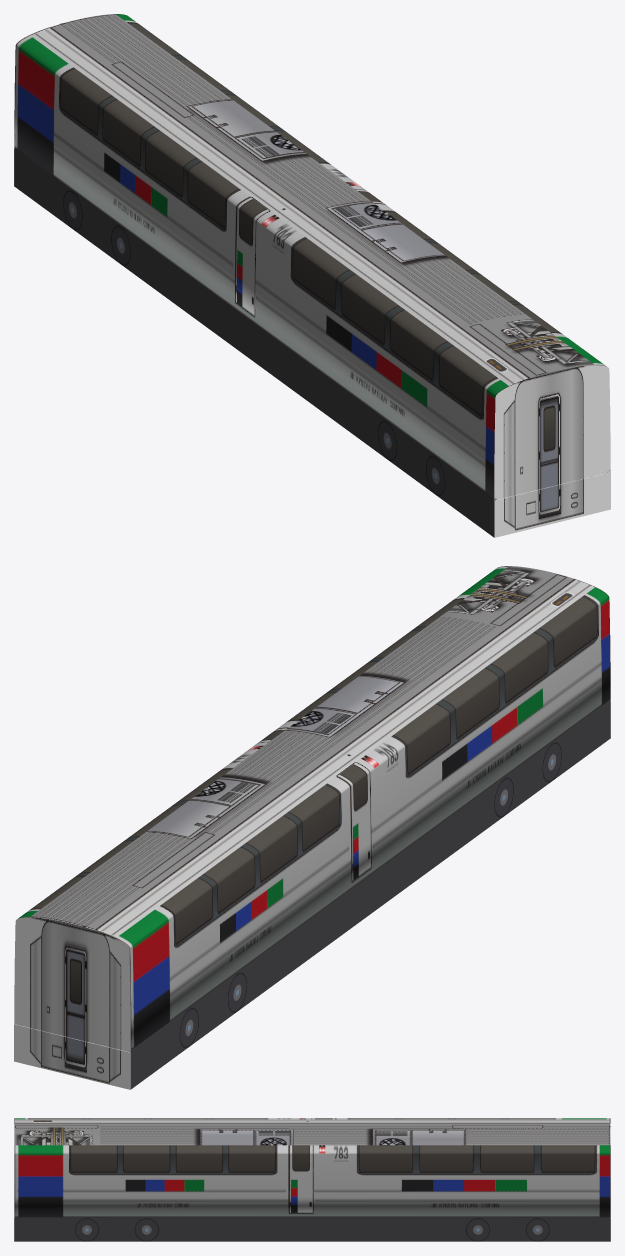
The model's file is car1.glb.
3 views of the same model, one above another, from view 1: azimuth 30°, elevation 25°; view 2: azimuth 150°, elevation 25°; view 3: azimuth 270°, elevation 25° (orthographic). The views are drawn at different scales.
Parts seen in each view (by area): view 1: jr_kyusyu_783; view 2: jr_kyusyu_783; view 3: jr_kyusyu_783.
Boxes of the visible parts, left/top/right/bottom form: jr_kyusyu_783: left=14, top=14, right=610, bottom=537; jr_kyusyu_783: left=14, top=566, right=610, bottom=1089; jr_kyusyu_783: left=14, top=1118, right=610, bottom=1241.
Size of the model in its own units: 2.95 by 3.67 by 21.08.
Materials: 6 (5 with a texture image).
